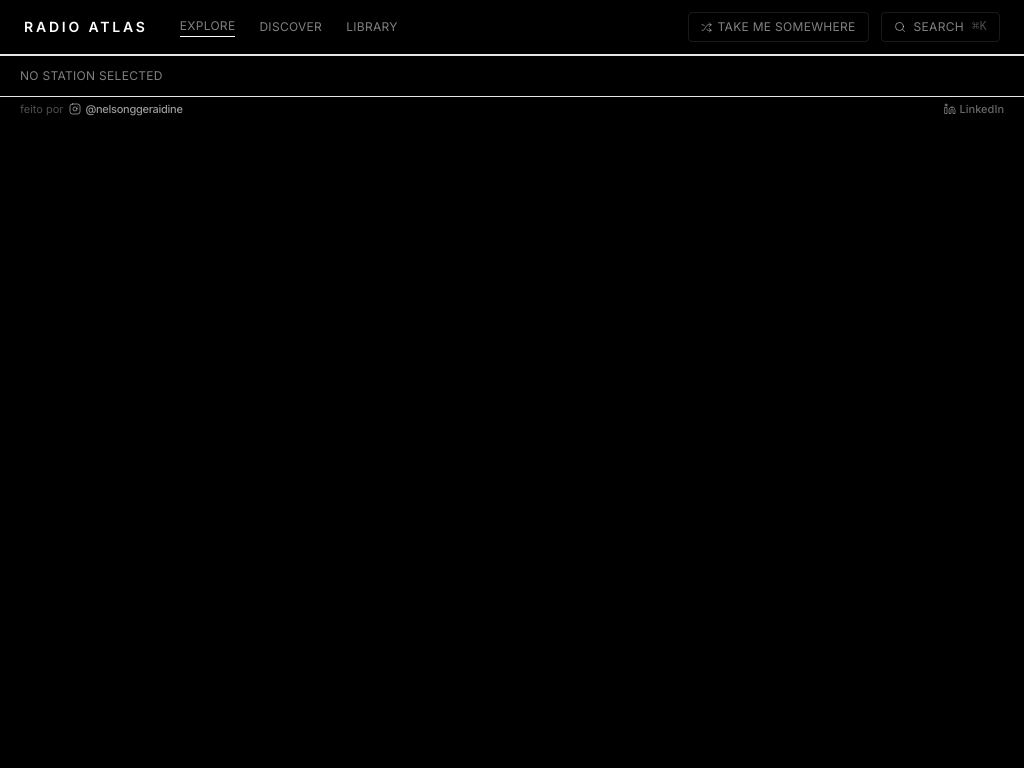
Test: ExplorePage › selecting a country in search shows its name and a country-wide station list
Click the button with test id "open-search": {"x": 940, "y": 27} left=881, top=12, right=1000, bottom=42
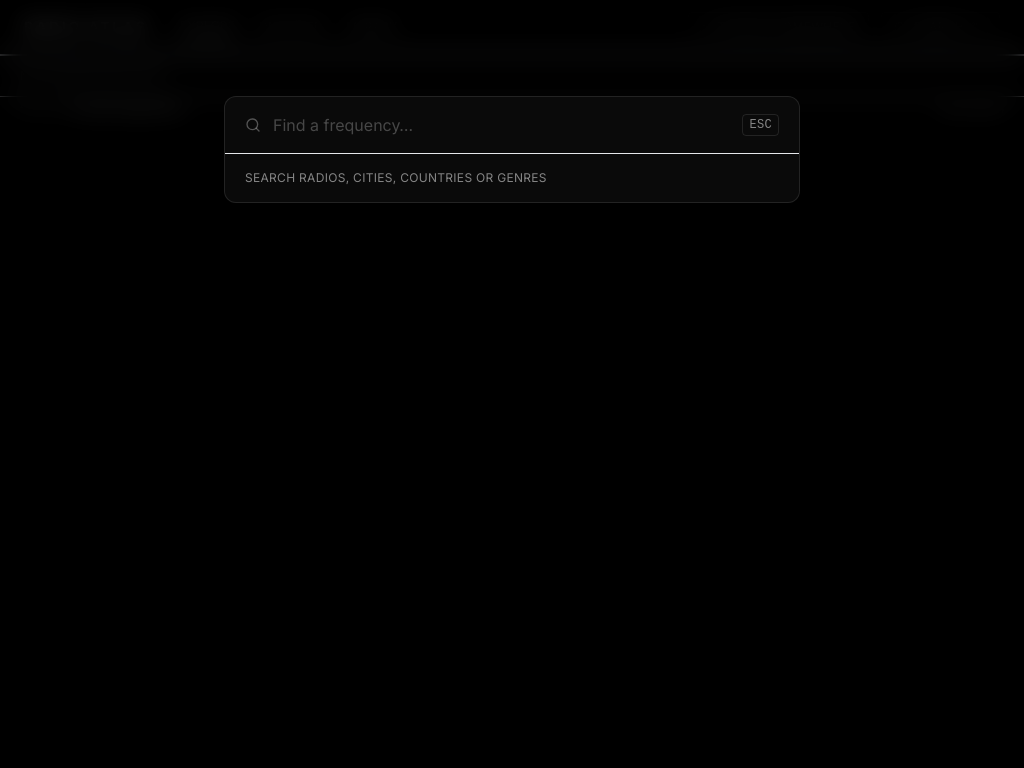
In the field with test id "global-search-input": {"x": 502, "y": 125} left=273, top=113, right=730, bottom=137, type "Japan"
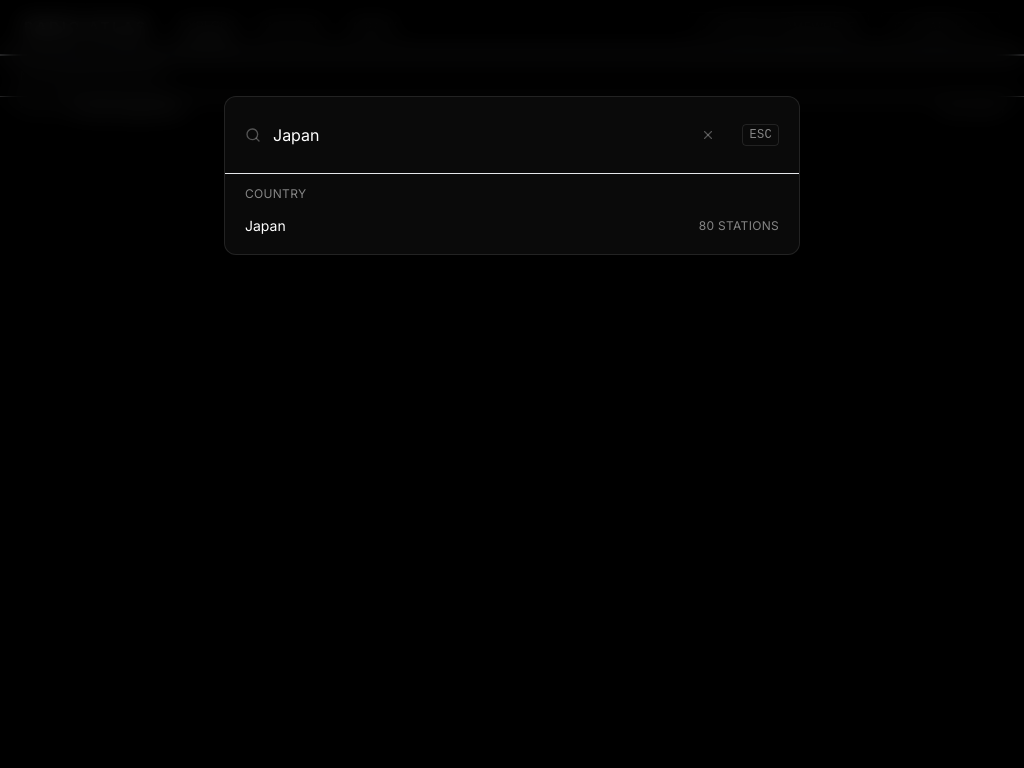
Result: the option with test id "global-search-result-country" is shown
Click the option with test id "global-search-result-country": {"x": 265, "y": 226} left=225, top=206, right=799, bottom=246
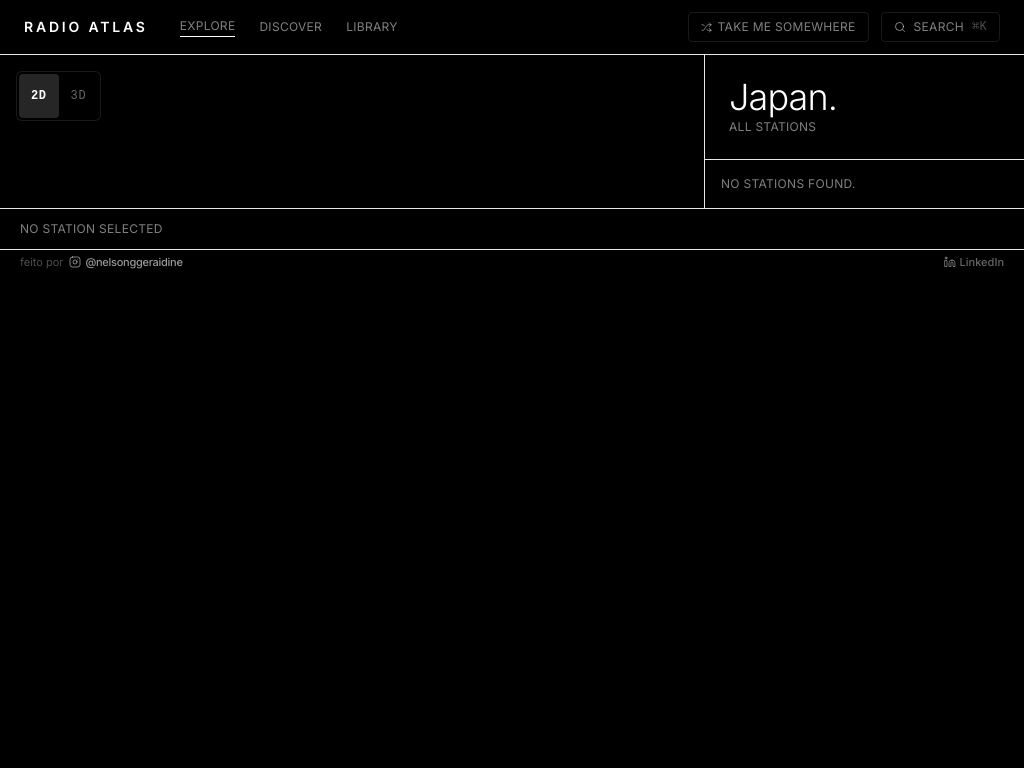
Result: the heading "Japan." is shown at left=729, top=75, right=837, bottom=119
Result: the element with test id "global-search-overlay" is gone
